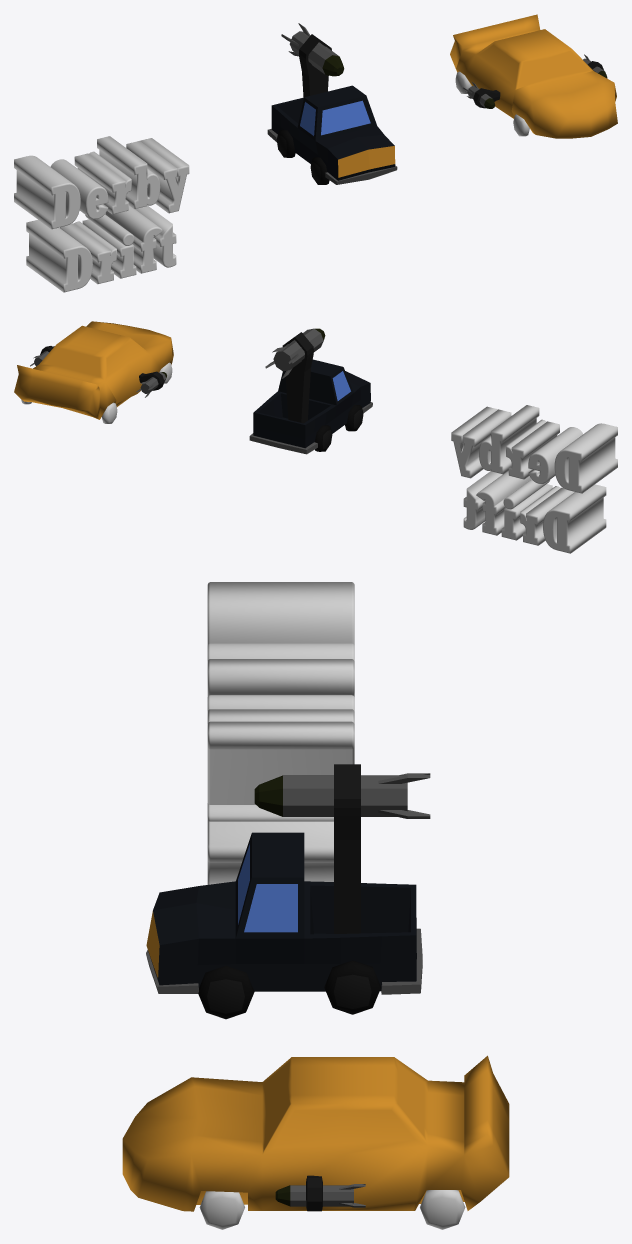
Rendered from Car1.obj.
3 renders of one model, top to bottom at view 1: azimuth 30°, elevation 25°; view 2: azimuth 150°, elevation 25°; view 3: azimuth 270°, elevation 25°, orthographic. The views are drawn at different scales.
Visible parts, largest first — view 1: Text, Cube_Cube.002, Cube.002_Cube.006, Cylinder.002, Cube.003_Cube.007, Plane.005_Plane.009, Plane.001_Plane.010; view 2: Text, Cube_Cube.002, Cube.002_Cube.006, Cube.003_Cube.007, Cylinder.002, Plane.005_Plane.009, Plane.001_Plane.010; view 3: Cube_Cube.002, Text, Cube.002_Cube.006, Cylinder.002, Cube.003_Cube.007, Plane.005_Plane.009, Plane.001_Plane.010, Cylinder.003.
Boxes of the visible parts, <box> form: Text: <box>14,136,189,292</box>; Cube_Cube.002: <box>450,14,617,138</box>; Cube.002_Cube.006: <box>267,85,397,184</box>; Cylinder.002: <box>281,23,344,76</box>; Cube.003_Cube.007: <box>299,34,331,98</box>; Plane.005_Plane.009: <box>276,130,329,184</box>; Plane.001_Plane.010: <box>455,71,529,136</box>; Text: <box>451,405,617,553</box>; Cube_Cube.002: <box>14,321,173,419</box>; Cube.002_Cube.006: <box>249,359,372,454</box>; Cube.003_Cube.007: <box>282,332,313,423</box>; Cylinder.002: <box>265,328,325,378</box>; Plane.005_Plane.009: <box>315,405,363,451</box>; Plane.001_Plane.010: <box>21,362,172,423</box>; Cube_Cube.002: <box>122,1055,509,1211</box>; Text: <box>207,582,354,884</box>; Cube.002_Cube.006: <box>146,832,422,994</box>; Cylinder.002: <box>254,773,430,818</box>; Cube.003_Cube.007: <box>334,764,360,933</box>; Plane.005_Plane.009: <box>198,960,381,1019</box>; Plane.001_Plane.010: <box>199,1190,465,1229</box>; Cylinder.003: <box>275,1184,365,1207</box>.
Bounding box in the file's own units: 28.01 × 7.41 × 8.52.
